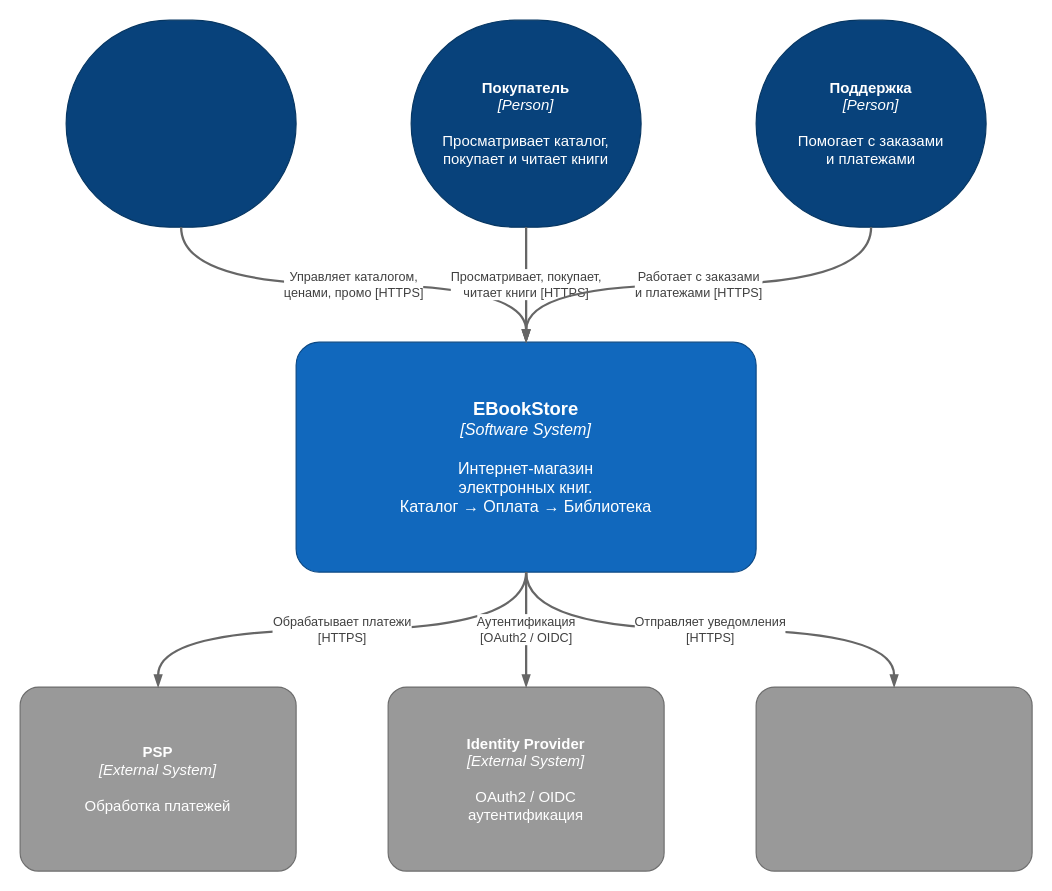
The diagram is 1052 pixels wide and 891 high, and some of its shapes have lost their labels. The centre of each missing label's shape, as x and y in pixels:
"Email / SMS Provider [External System] Уведомления" goes at (x=893, y=778).
"Администратор [Person] Управляет каталогом, ценами, промо-акциями" goes at (x=180, y=123).
